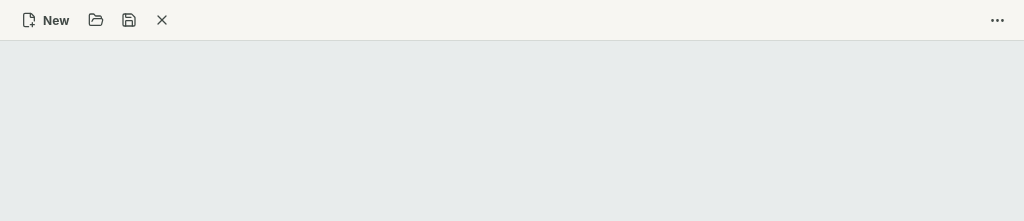
Scenario: skips disabled overflow actions and exposes active panel state
Click the button named "More document actions" at (997, 20), box x1=982 y1=5 x2=1012 y2=35
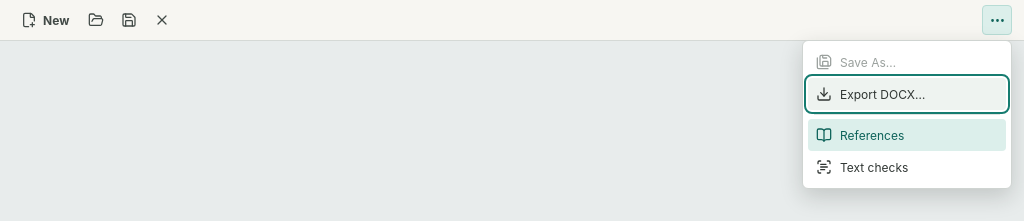
Expected: the menu item "Save As…" is disabled, x1=808 y1=46 x2=1006 y2=78
